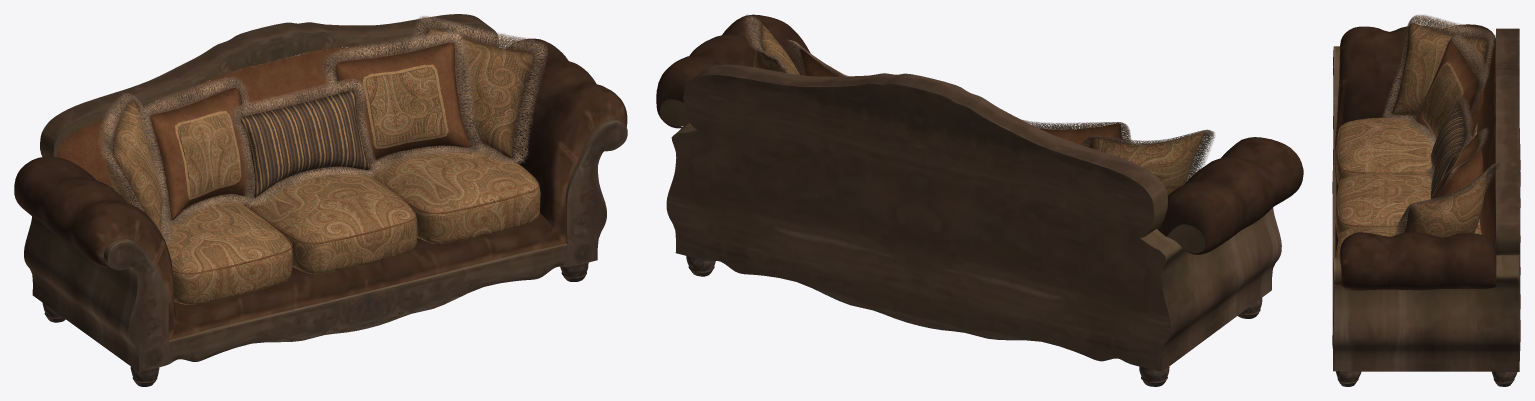
File: leather-sofa.glb
The picture shows the model from 3 angles, left to right: view 1: azimuth 30°, elevation 25°; view 2: azimuth 150°, elevation 25°; view 3: azimuth 270°, elevation 25°; orthographic projection. The views are drawn at different scales.
Visible parts, largest first — view 1: Frame, Paisley, Fringe, Brown, Stripes, Frame_Fabric; view 2: Frame, Paisley, Fringe, Brown; view 3: Frame, Paisley, Fringe, Brown, Frame_Fabric, Stripes.
Part boxes in pixels (x1=…): Frame: x1=14, y1=14, x2=627, y2=386; Paisley: x1=107, y1=27, x2=540, y2=304; Fringe: x1=98, y1=16, x2=547, y2=246; Brown: x1=150, y1=42, x2=539, y2=274; Stripes: x1=174, y1=64, x2=448, y2=199; Frame_Fabric: x1=57, y1=34, x2=494, y2=190; Frame: x1=656, y1=14, x2=1303, y2=386; Paisley: x1=754, y1=23, x2=1204, y2=194; Fringe: x1=743, y1=14, x2=1215, y2=181; Brown: x1=800, y1=46, x2=1121, y2=146; Frame: x1=1332, y1=24, x2=1520, y2=386; Paisley: x1=1335, y1=23, x2=1487, y2=257; Fringe: x1=1382, y1=14, x2=1499, y2=235; Brown: x1=1337, y1=40, x2=1483, y2=257; Frame_Fabric: x1=1477, y1=39, x2=1495, y2=245; Stripes: x1=1422, y1=61, x2=1472, y2=198.
Bounding box in the file's own units: 2.73 × 1.12 × 0.9231.
Materials: 6 (6 with a texture image).
